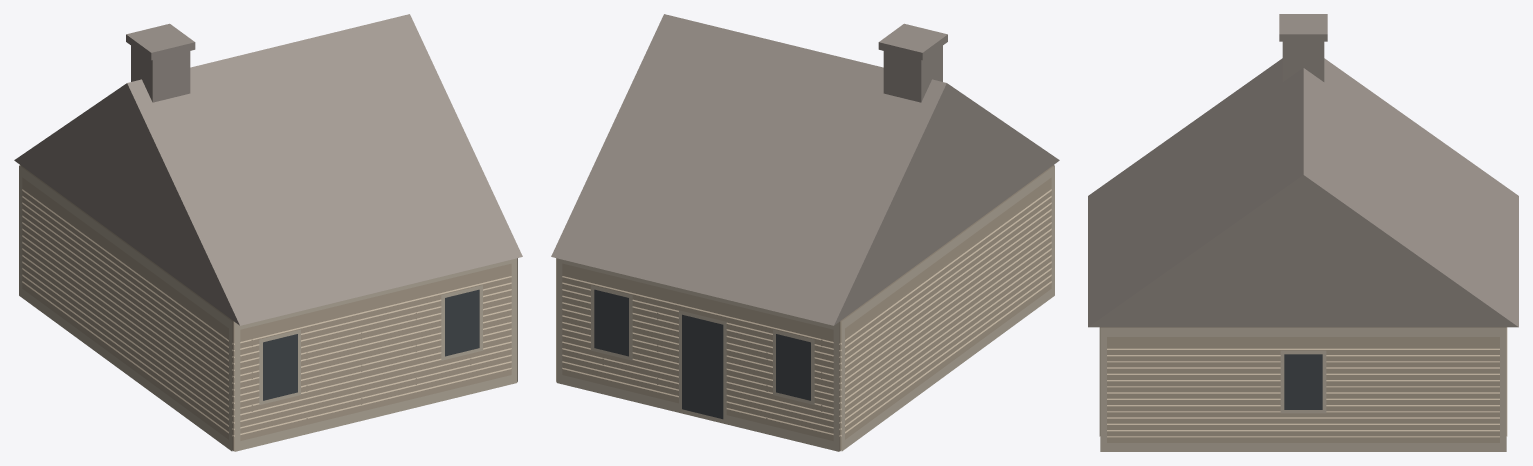
The model's file is recon_1835_south_d4_014__inferred_1835.glb.
The picture shows the model from 3 angles, left to right: view 1: azimuth 30°, elevation 25°; view 2: azimuth 150°, elevation 25°; view 3: azimuth 270°, elevation 25°; orthographic projection. The views are drawn at different scales.
Parts seen in each view (by area): view 1: recon_1835_south_d4_014__inferred_1835; view 2: recon_1835_south_d4_014__inferred_1835; view 3: recon_1835_south_d4_014__inferred_1835.
Boxes of the visible parts, x1,y1,x2,y2 form: recon_1835_south_d4_014__inferred_1835: (14, 14, 522, 451); recon_1835_south_d4_014__inferred_1835: (551, 14, 1059, 451); recon_1835_south_d4_014__inferred_1835: (1088, 14, 1518, 451).
Bounding box in the file's own units: 6.4 × 6.98 × 8.75.
